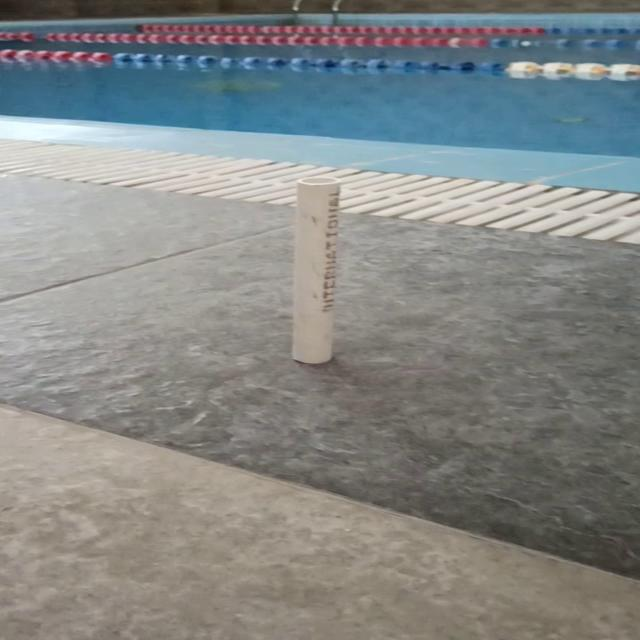Cube: (289, 176, 341, 364)
